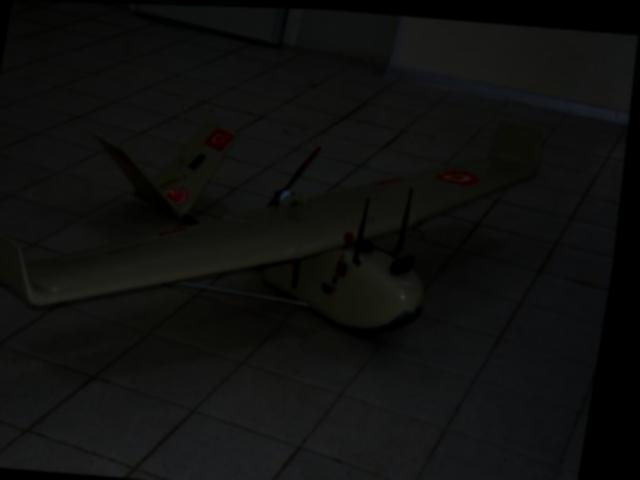iha: (0, 102, 545, 358)
